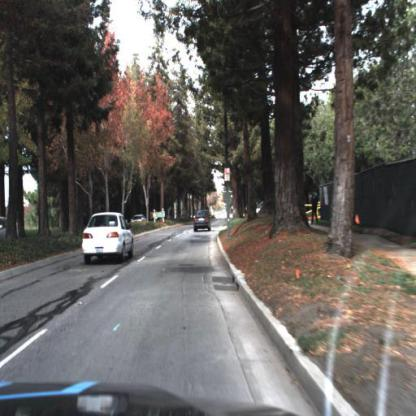car: (82, 208, 139, 267), (193, 208, 213, 236)
